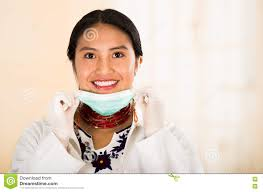mask_weared_incorrect: (71, 23, 144, 114)
